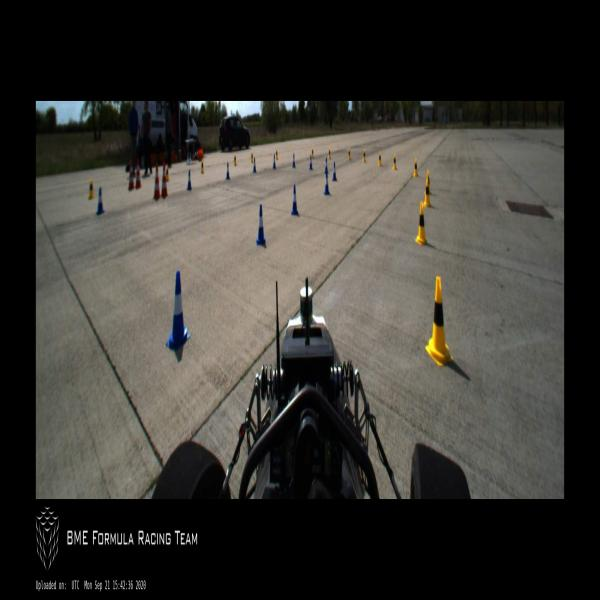blue_cone: (166, 271, 190, 349), (256, 205, 266, 245), (291, 185, 298, 215), (97, 187, 104, 215), (324, 170, 330, 196), (332, 162, 337, 182), (187, 170, 192, 190), (226, 162, 230, 180), (292, 154, 296, 169), (325, 157, 328, 175), (273, 154, 276, 170), (253, 159, 256, 173), (310, 156, 312, 170)
large_orange_cone: (153, 163, 160, 200), (161, 162, 168, 198), (135, 159, 141, 189), (128, 160, 134, 189)
yellow_cone: (425, 276, 452, 366), (415, 202, 427, 245), (424, 178, 431, 206), (424, 168, 430, 194), (88, 178, 94, 200), (413, 158, 418, 178), (166, 164, 170, 182), (392, 153, 396, 170), (200, 158, 204, 174), (378, 150, 381, 166), (363, 149, 366, 163), (328, 148, 331, 159), (234, 152, 236, 167), (348, 147, 350, 160), (312, 147, 314, 159), (251, 151, 253, 163), (276, 149, 278, 160)
